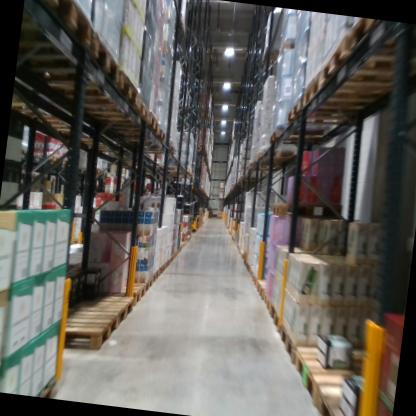pallet: (24, 30, 125, 98), (287, 340, 377, 411), (319, 32, 416, 93), (293, 63, 394, 119), (58, 61, 142, 120), (19, 0, 96, 63), (276, 320, 340, 375), (286, 94, 377, 129), (58, 303, 120, 354), (344, 16, 416, 56), (69, 288, 134, 327), (93, 90, 154, 127), (314, 379, 369, 416), (269, 120, 330, 152), (107, 105, 162, 136), (119, 118, 167, 148), (269, 197, 312, 221), (116, 278, 147, 308), (138, 137, 177, 159), (266, 301, 287, 339), (254, 147, 295, 163), (247, 158, 287, 174), (253, 277, 271, 305), (34, 377, 59, 397), (172, 11, 190, 36), (37, 150, 62, 165), (164, 162, 190, 175), (261, 289, 273, 316), (146, 266, 160, 286), (143, 274, 153, 294), (156, 261, 166, 277), (250, 271, 260, 287), (163, 257, 170, 271), (93, 167, 102, 175), (100, 171, 109, 177), (218, 196, 223, 201)
